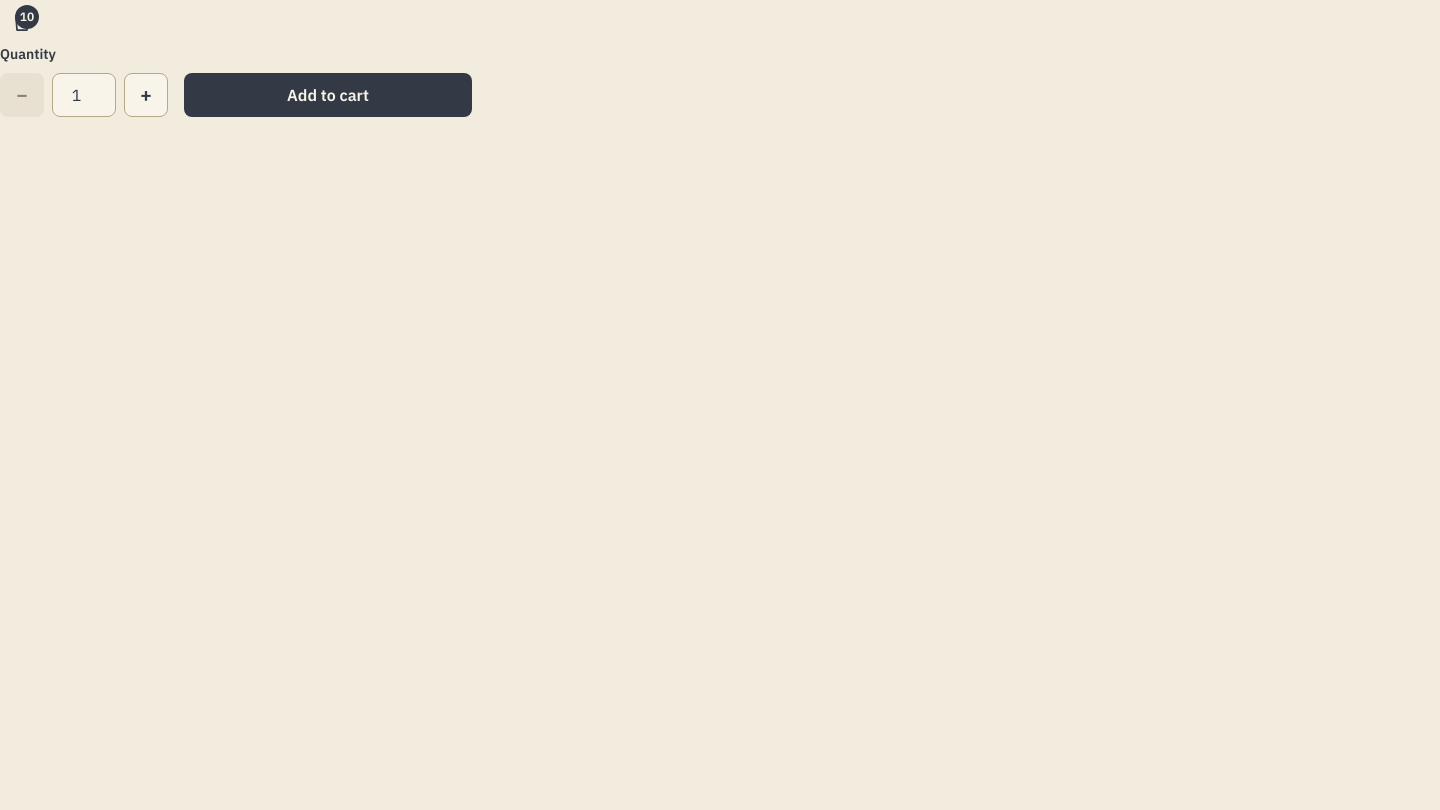
Test: AddToCart › a refusal message that goes stale › clears when the same line changes elsewhere (e.g. removed in the drawer)
This screenshot has width=1440, height=810.
Click the button "Add to cart" at [328, 95], box x1=184 y1=73 x2=472 y2=117
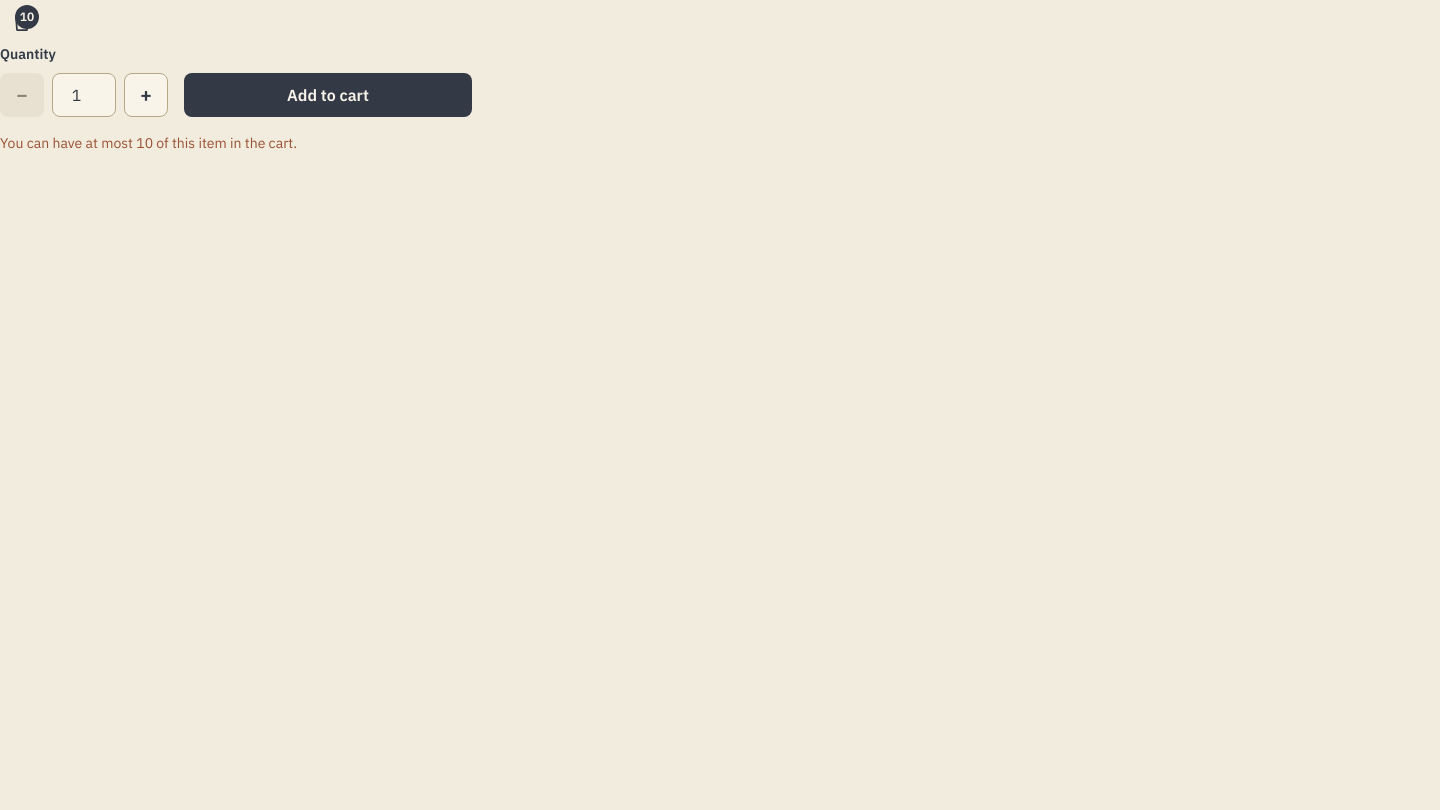
Now the message "You can have at most 10 of this item in the cart." is shown, box x1=0 y1=134 x2=297 y2=152
# Removed via the drawer rendered alongside, not through AddToCart at all.
Click the button named "Cart," at [22, 22], box x1=0 y1=0 x2=44 y2=44
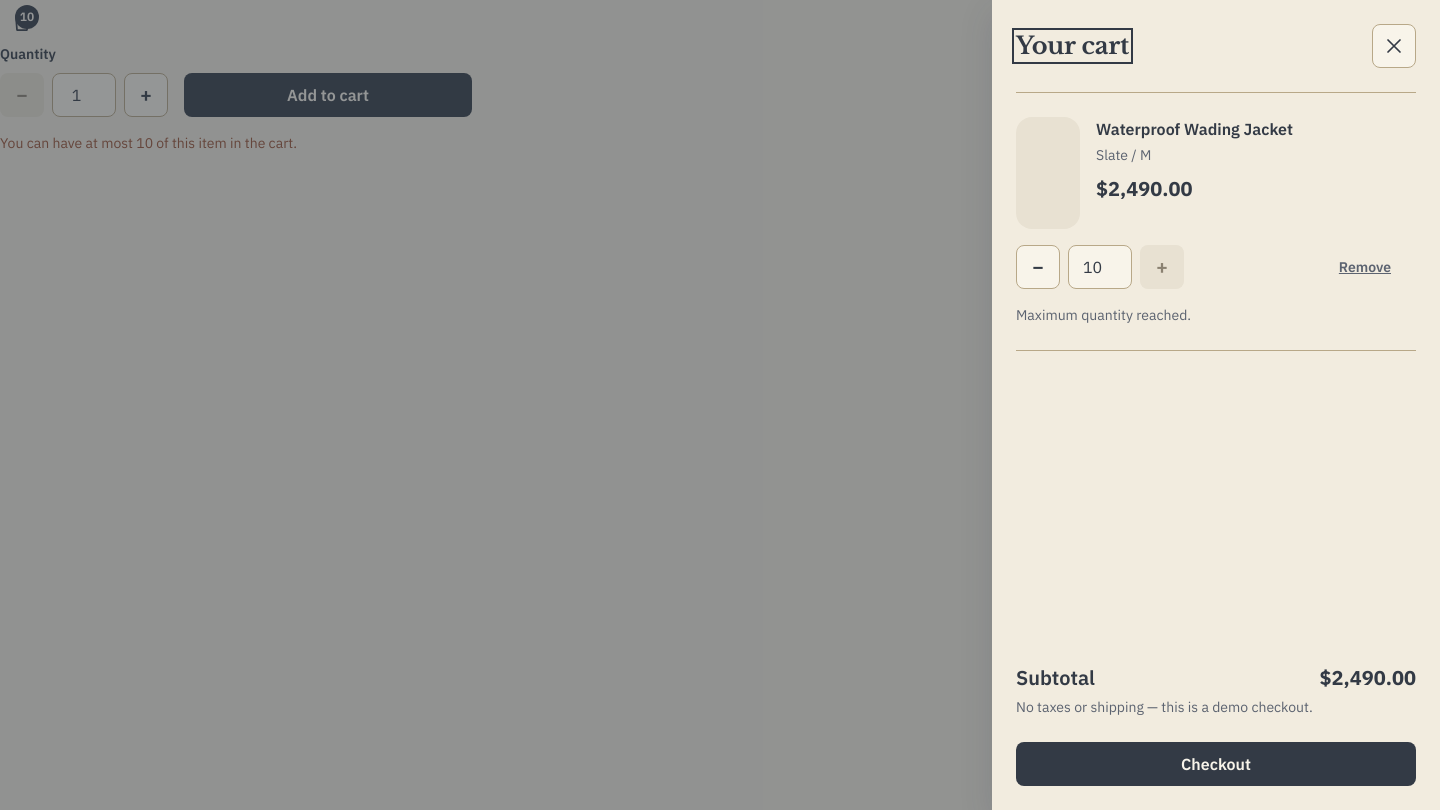
Click the button "Remove" at [1365, 267], box x1=1314 y1=245 x2=1416 y2=289
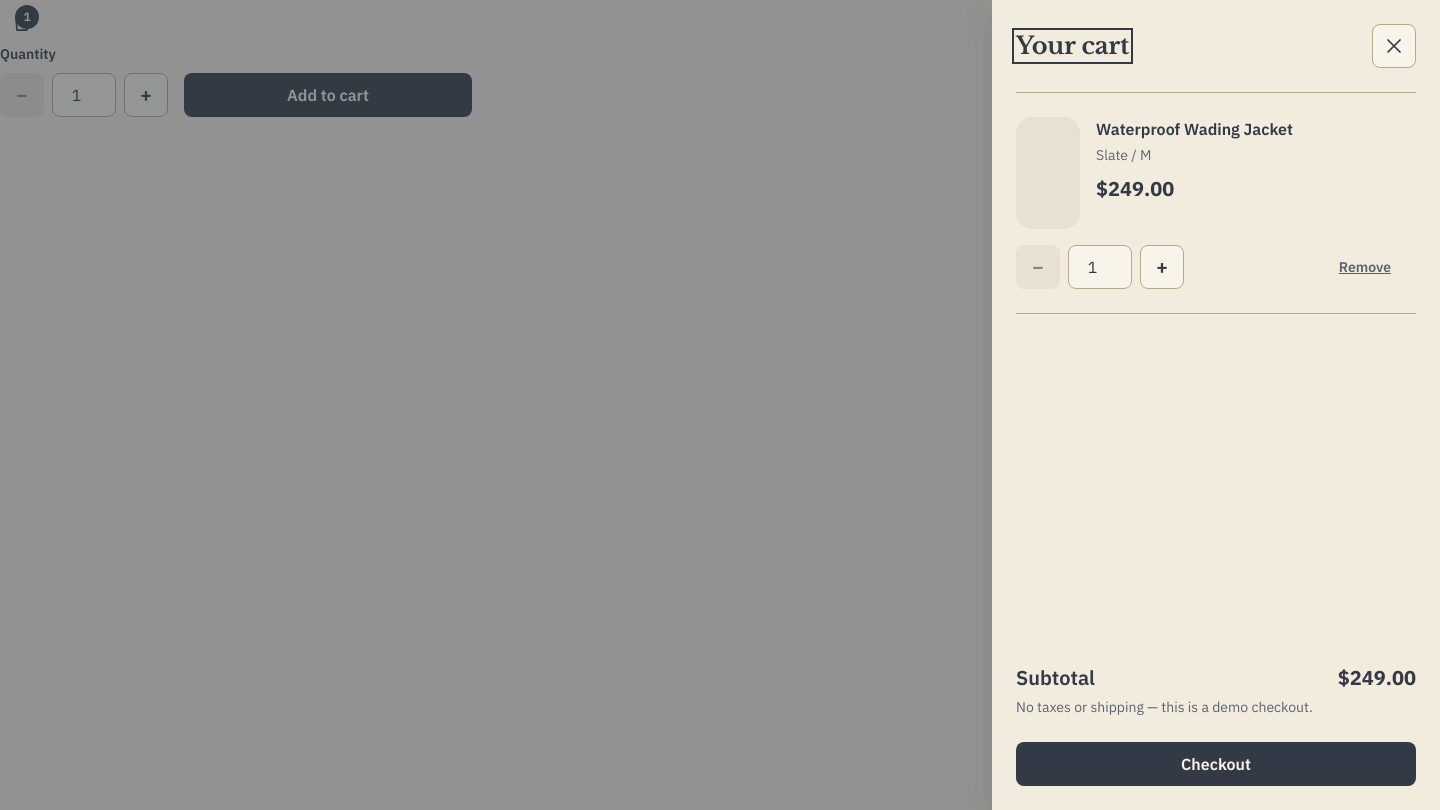
Now the message "You can have at most 10 of this item in the cart." is gone
